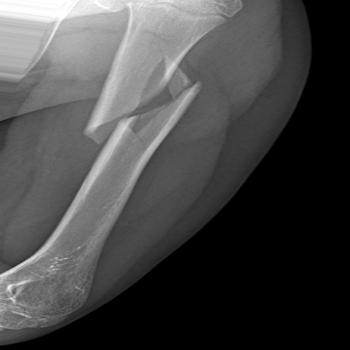Fracture: (79, 59, 223, 152)
